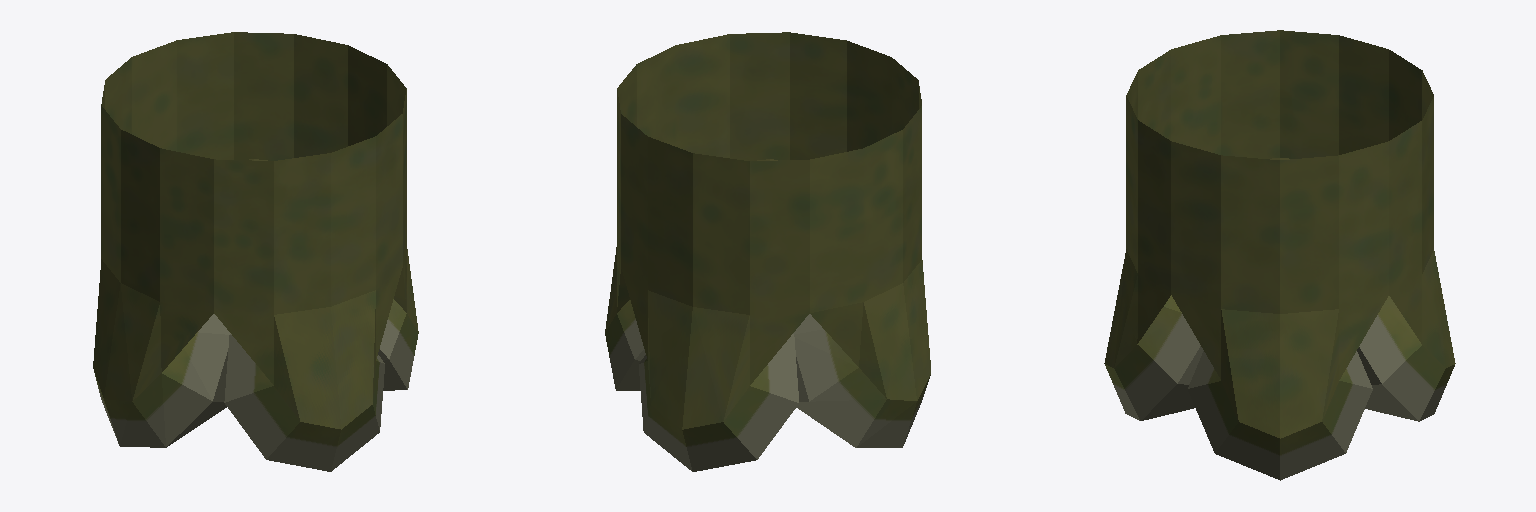
The picture shows the model from 3 angles: view 1: azimuth 30°, elevation 25°; view 2: azimuth 150°, elevation 25°; view 3: azimuth 270°, elevation 25°; orthographic projection.
Parts seen in each view (by area): view 1: Cone; view 2: Cone; view 3: Cone.
Boxes of the visible parts, box(x1,y1,x2,y2) form: Cone: box(93, 32, 418, 471); Cone: box(605, 32, 930, 471); Cone: box(1104, 30, 1455, 480).
Size of the model in its own units: 4.33 by 4.39 by 4.37.
Materials: 1 (1 with a texture image).